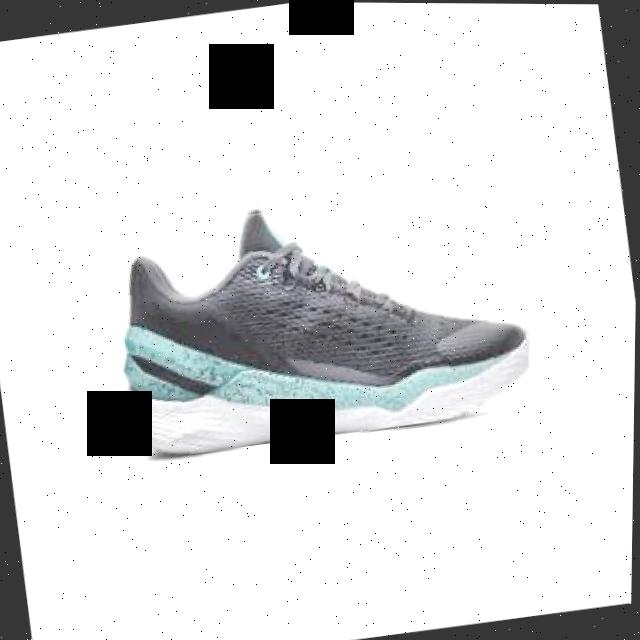shoe: (89, 173, 538, 466)
